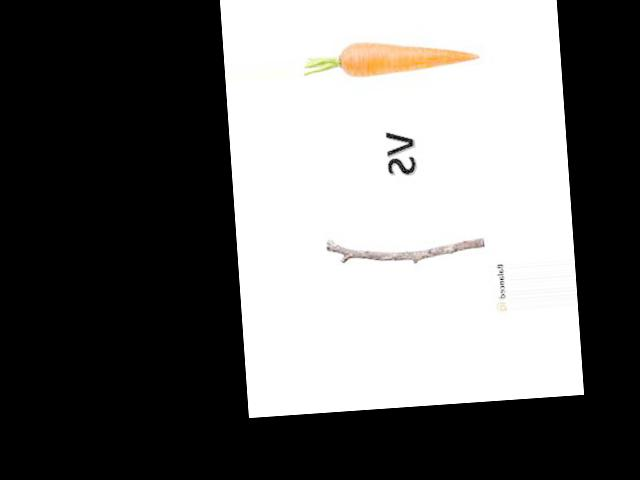carrot: (331, 32, 485, 85)
